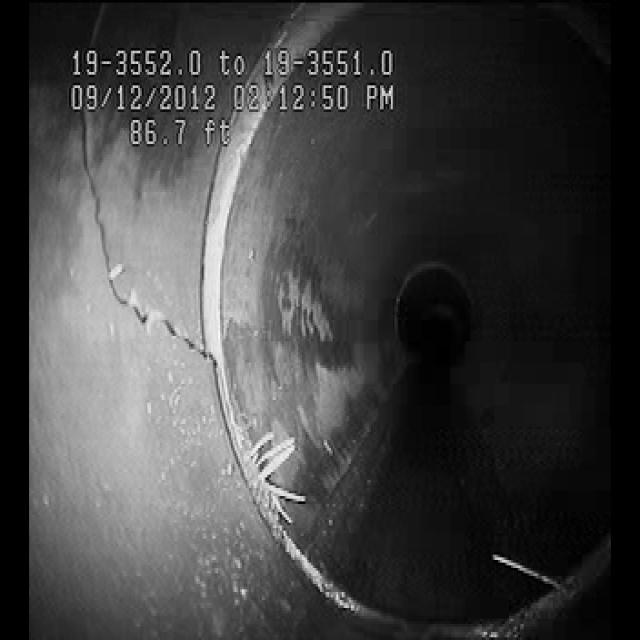Fracture: (64, 146, 222, 387)
